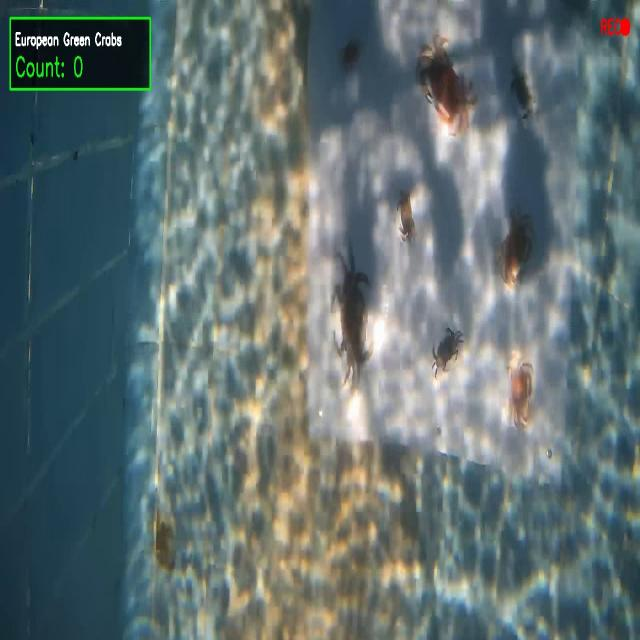European_Green_Crab: (321, 232, 384, 404), (430, 313, 465, 386), (508, 69, 540, 128)
